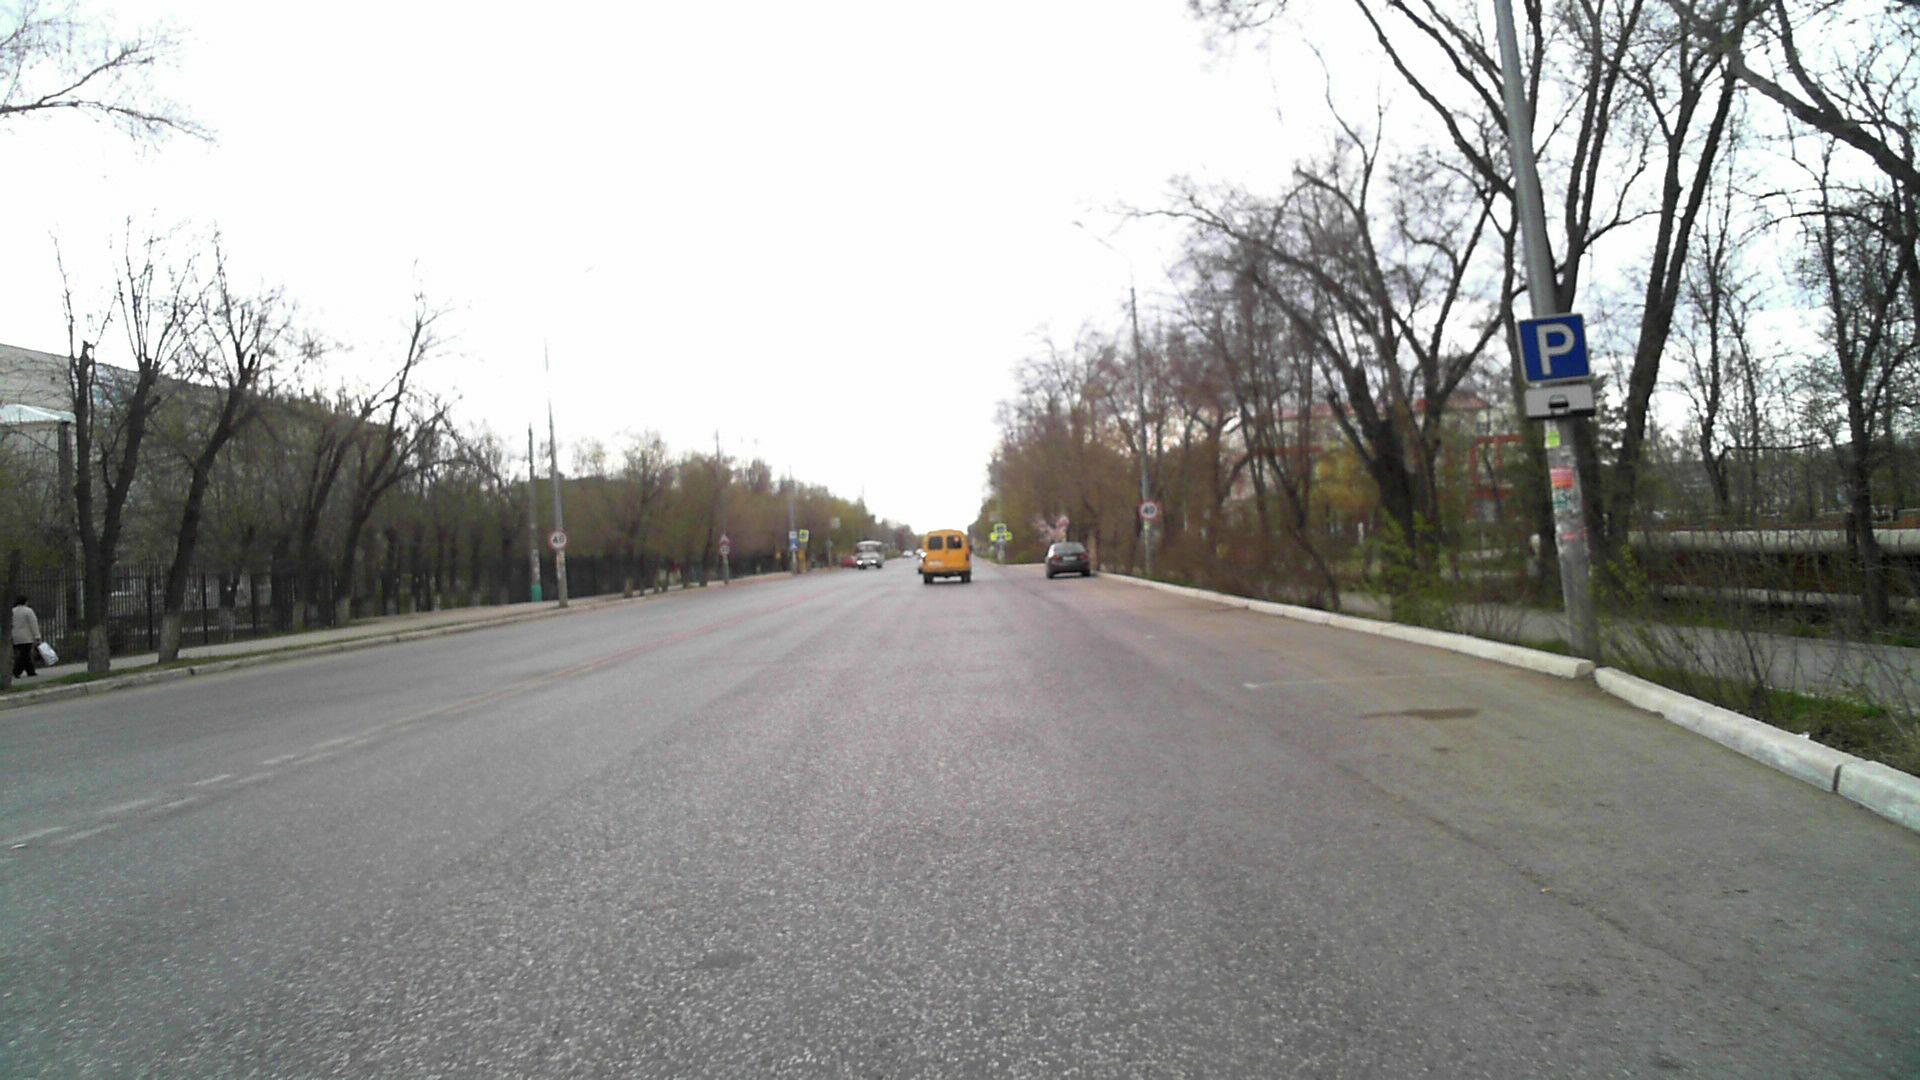1_17: (717, 531, 732, 545), (1058, 513, 1069, 524)
3_24: (549, 526, 570, 550), (1138, 500, 1160, 520), (720, 545, 731, 555)
5_16: (789, 530, 799, 541)
5_19_1: (997, 525, 1005, 534)
5_19_2: (800, 531, 808, 539)
5_20: (996, 535, 1006, 545), (787, 542, 798, 551)
6_4: (1516, 314, 1593, 380)
8_6_1: (1523, 382, 1596, 419)
